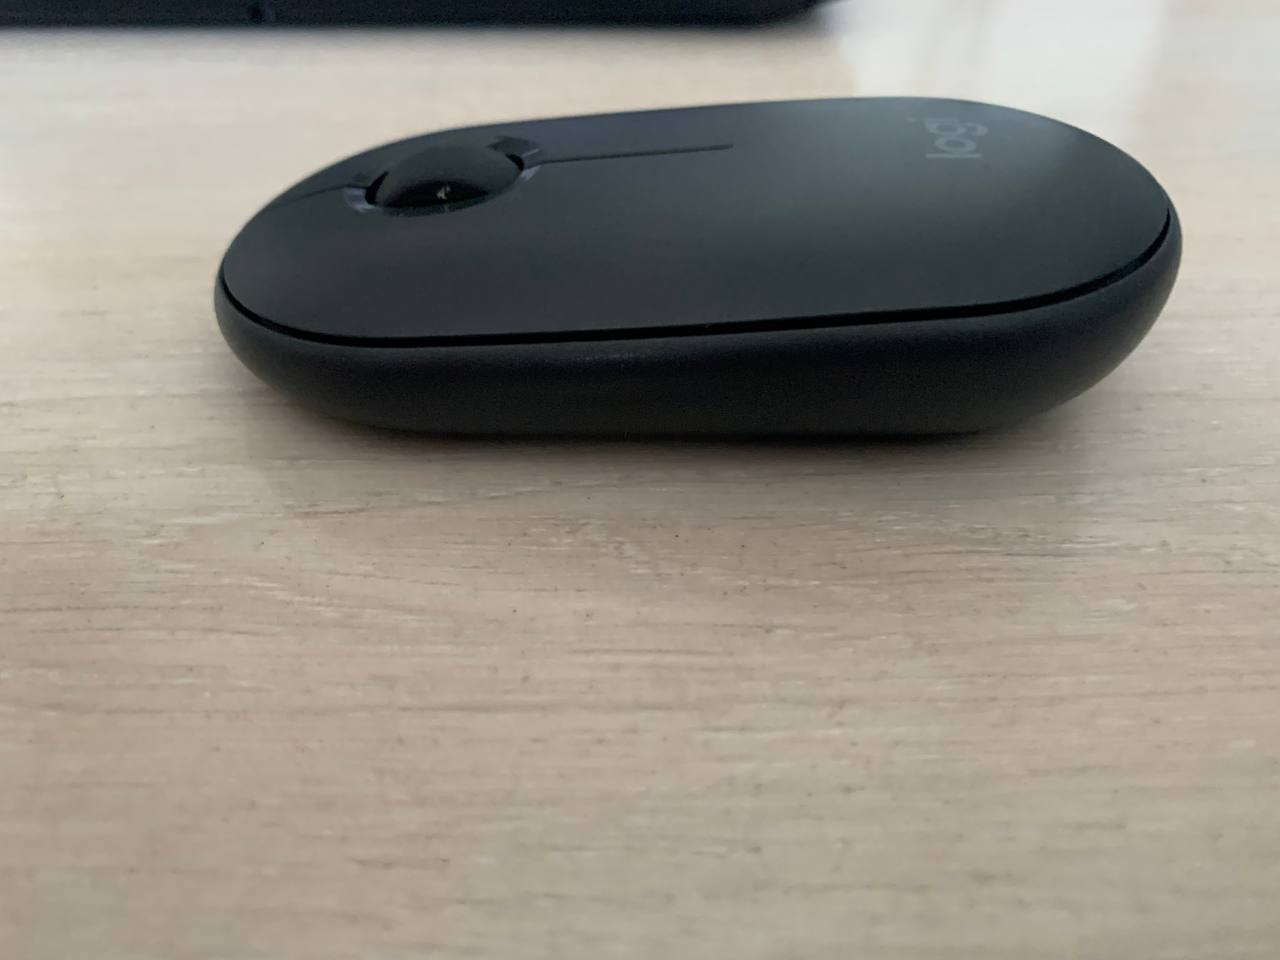mouse: (216, 98, 1180, 435)
